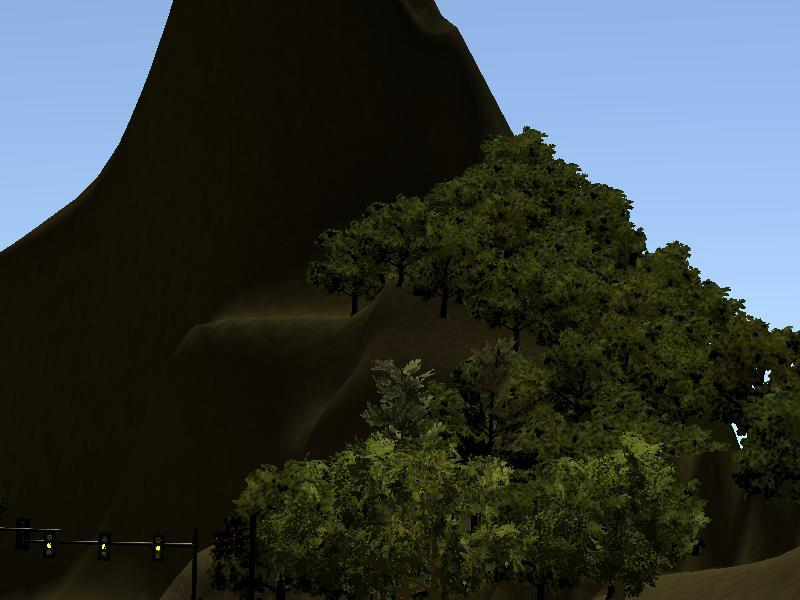Yellow: (97, 531, 112, 562), (151, 534, 165, 563), (44, 531, 56, 559)
